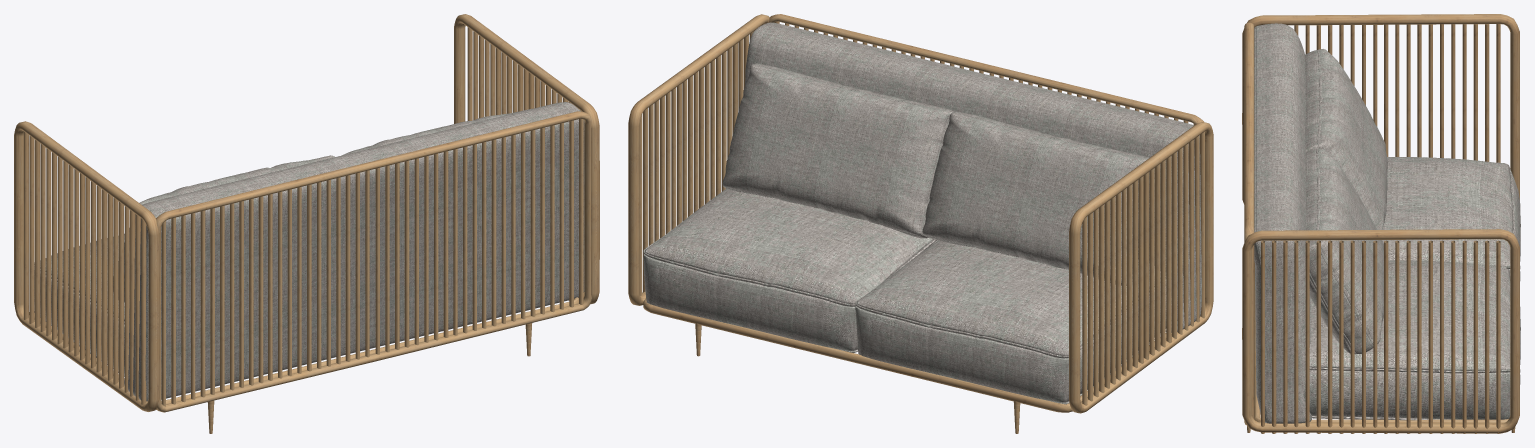
File: outsidesofa.fbx
3 views of the same model, side by side, from view 1: azimuth 30°, elevation 25°; view 2: azimuth 150°, elevation 25°; view 3: azimuth 270°, elevation 25° (orthographic).
Visible parts, largest first — view 1: polySurface1580; view 2: polySurface1580; view 3: polySurface1580.
Boxes of the visible parts, x1,y1,x2,y2 form: polySurface1580: (14, 14, 599, 433); polySurface1580: (628, 14, 1213, 433); polySurface1580: (1242, 14, 1520, 433).
Size of the model in its own units: 16.45 by 8.12 by 8.78.
2 materials, 2 textured.
